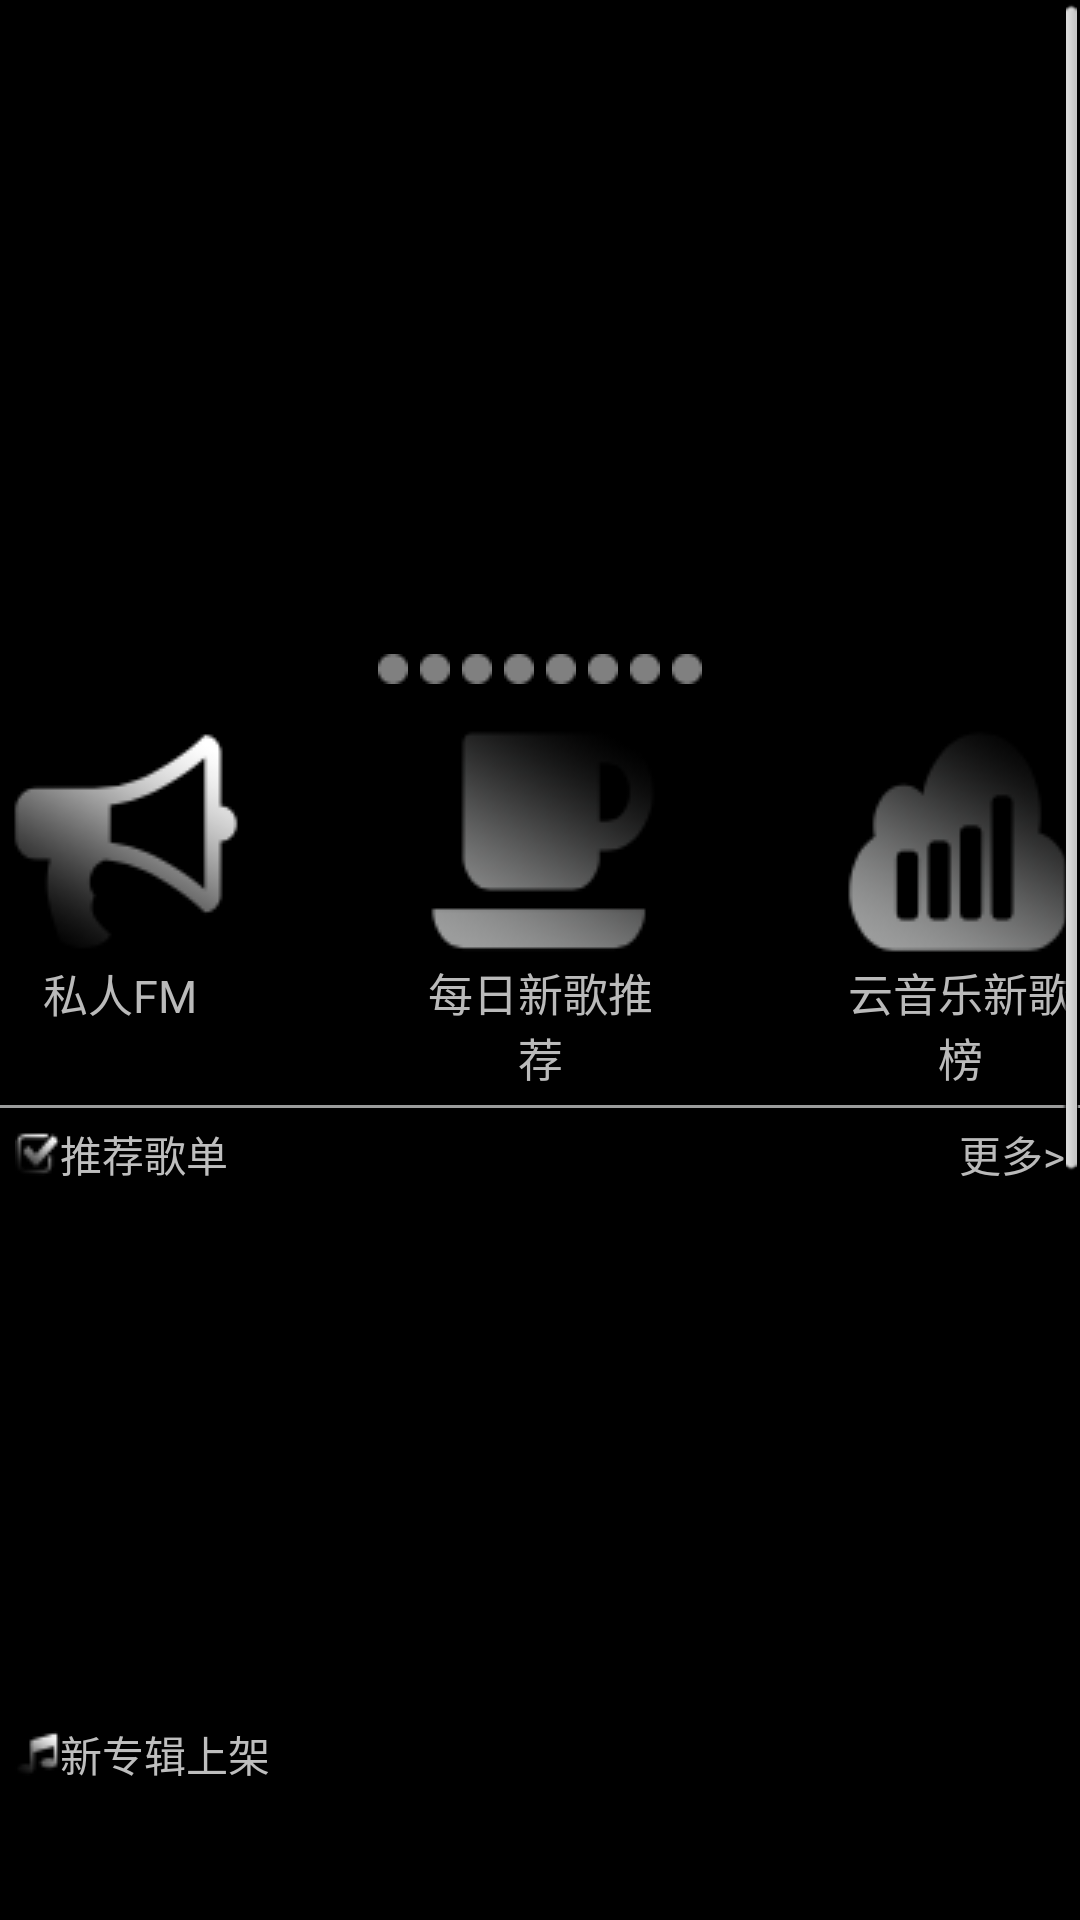

Icons on this 1080 x 1920 Android screen, each with its box as (left=x1, top=y1, right=x2, bottom=y2):
dot: (left=378, top=654, right=408, bottom=684), (left=420, top=654, right=450, bottom=684), (left=462, top=654, right=492, bottom=684), (left=504, top=654, right=534, bottom=684), (left=546, top=654, right=576, bottom=684), (left=588, top=654, right=618, bottom=684), (left=630, top=654, right=660, bottom=684), (left=672, top=654, right=702, bottom=684)
